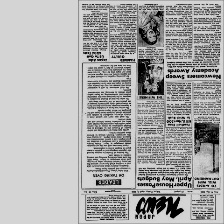news_paper: (77, 0, 224, 224)
